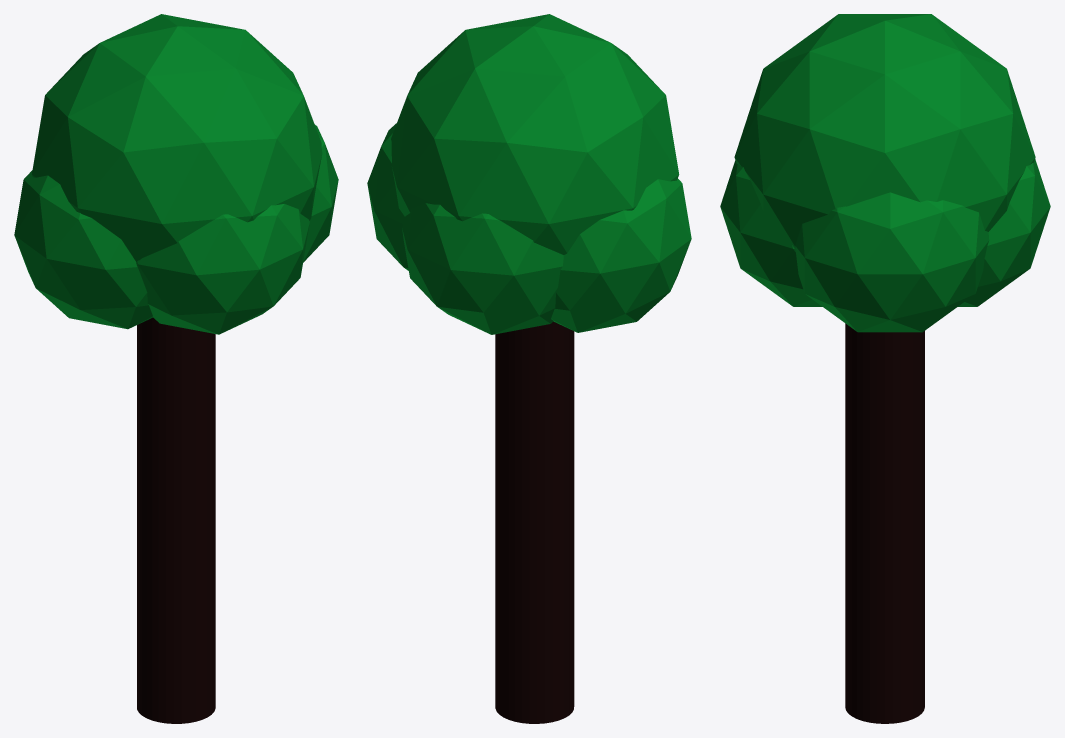
File: Medium_Low_Leaf_Tree.glb
3 renders of one model, left to right at view 1: azimuth 30°, elevation 25°; view 2: azimuth 150°, elevation 25°; view 3: azimuth 270°, elevation 25°, orthographic.
Visible parts, largest first — view 1: Icosphere, Cylinder, Icosphere.004, Icosphere.001, Icosphere.002; view 2: Icosphere, Cylinder, Icosphere.003, Icosphere.001, Icosphere.002; view 3: Icosphere, Cylinder, Icosphere.002, Icosphere.004, Icosphere.003.
Part boxes in pixels (left/top/right/bottom): Icosphere: left=32, top=14, right=322, bottom=261; Cylinder: left=137, top=317, right=215, bottom=723; Icosphere.004: left=136, top=204, right=309, bottom=334; Icosphere.001: left=14, top=170, right=152, bottom=329; Icosphere.002: left=303, top=124, right=338, bottom=262; Icosphere: left=391, top=14, right=679, bottom=254; Cylinder: left=495, top=321, right=574, bottom=723; Icosphere.003: left=402, top=203, right=563, bottom=334; Icosphere.001: left=551, top=178, right=691, bottom=332; Icosphere.002: left=367, top=123, right=408, bottom=270; Icosphere: left=734, top=14, right=1035, bottom=250; Cylinder: left=845, top=323, right=924, bottom=723; Icosphere.002: left=795, top=192, right=989, bottom=332; Icosphere.004: left=720, top=160, right=822, bottom=306; Icosphere.003: left=958, top=159, right=1050, bottom=306.
Size of the model in its own units: 8.54 by 19.02 by 8.29.
